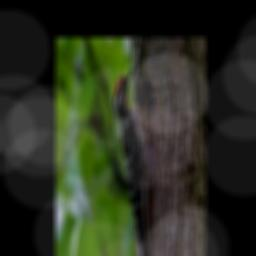Woodpecker: (114, 66, 153, 256)
